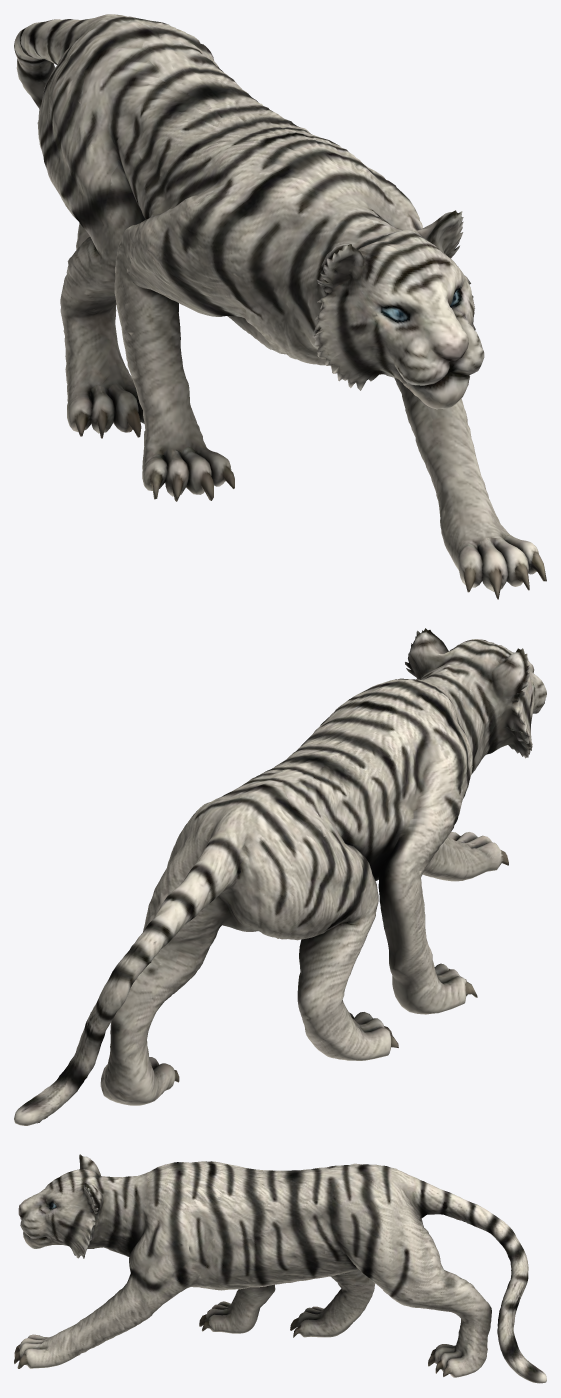
Rendered from MZ4250 - Tiger_White.glb.
3 renders of one model, top to bottom at view 1: azimuth 30°, elevation 25°; view 2: azimuth 150°, elevation 25°; view 3: azimuth 270°, elevation 25°, orthographic. The views are drawn at different scales.
Visible parts, largest first — view 1: Tiger.001; view 2: Tiger.001; view 3: Tiger.001.
Boxes of the visible parts, x1,y1,x2,y2 form: Tiger.001: [14, 14, 546, 599]; Tiger.001: [14, 628, 546, 1125]; Tiger.001: [14, 1154, 546, 1383].
Bounding box in the file's own units: 0.3772 × 0.4532 × 1.18.
Materials: 1 (1 with a texture image).
